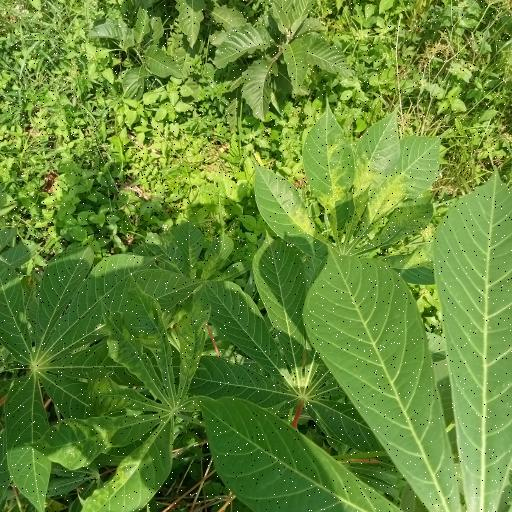Cassava_Healthy: (306, 175, 512, 512), (0, 245, 206, 512), (37, 281, 215, 512), (259, 106, 445, 262)
